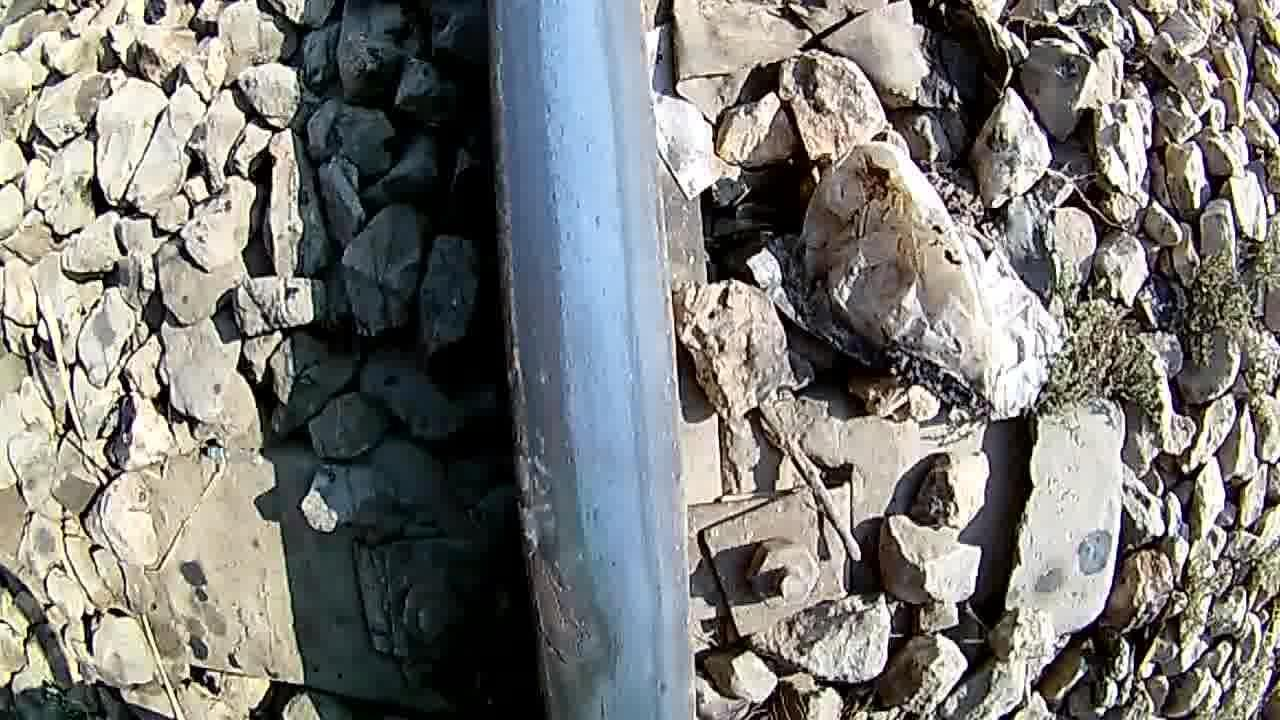crack: (492, 1, 664, 510), (530, 529, 669, 720)
